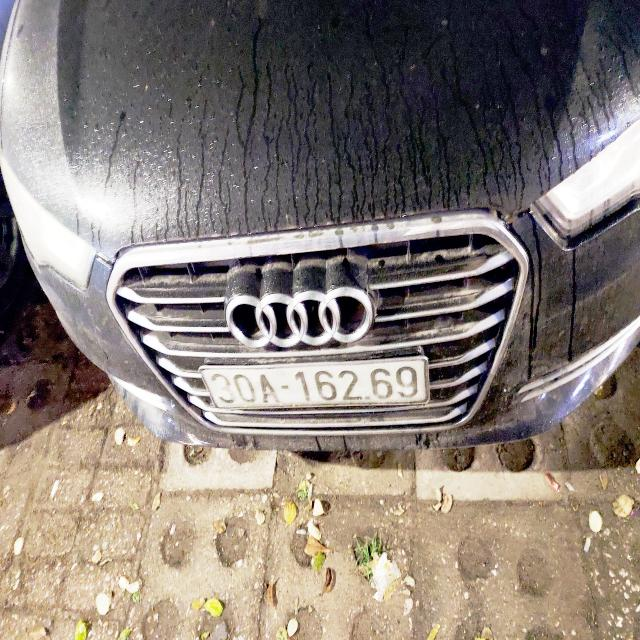license_plate: (199, 353, 435, 419)
